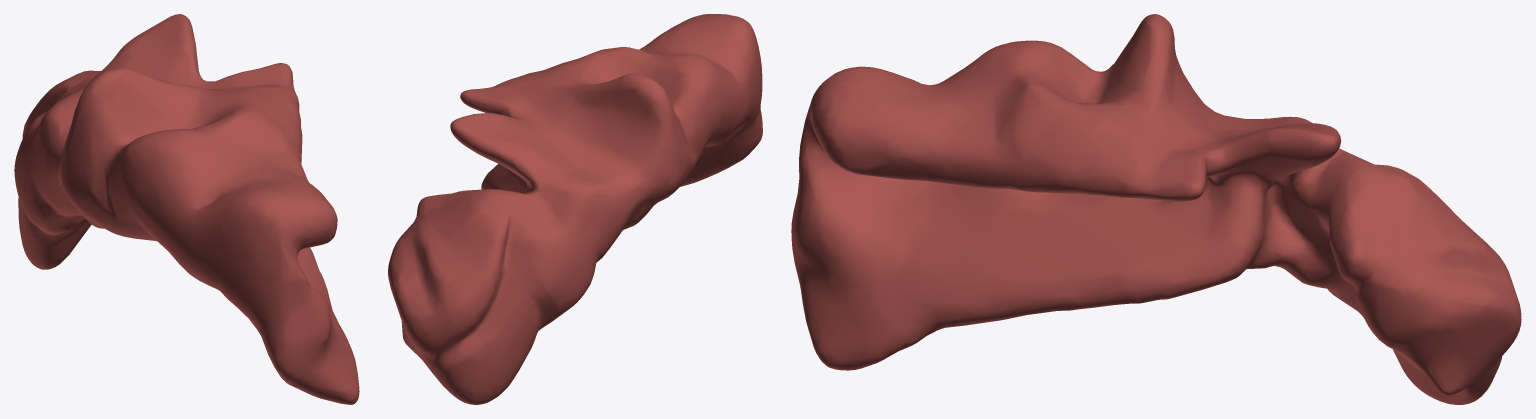
Rendered from FMA72804.glb.
The picture shows the model from 3 angles, left to right: view 1: azimuth 30°, elevation 25°; view 2: azimuth 150°, elevation 25°; view 3: azimuth 270°, elevation 25°; orthographic projection. The views are drawn at different scales.
Parts seen in each view (by area): view 1: FMA72804; view 2: FMA72804; view 3: FMA72804.
Part boxes in pixels (left/top/right/bottom): FMA72804: left=14, top=14, right=359, bottom=404; FMA72804: left=388, top=14, right=762, bottom=404; FMA72804: left=791, top=14, right=1521, bottom=404.
Bounding box in the file's own units: 0.0304 × 0.037 × 0.0699.
